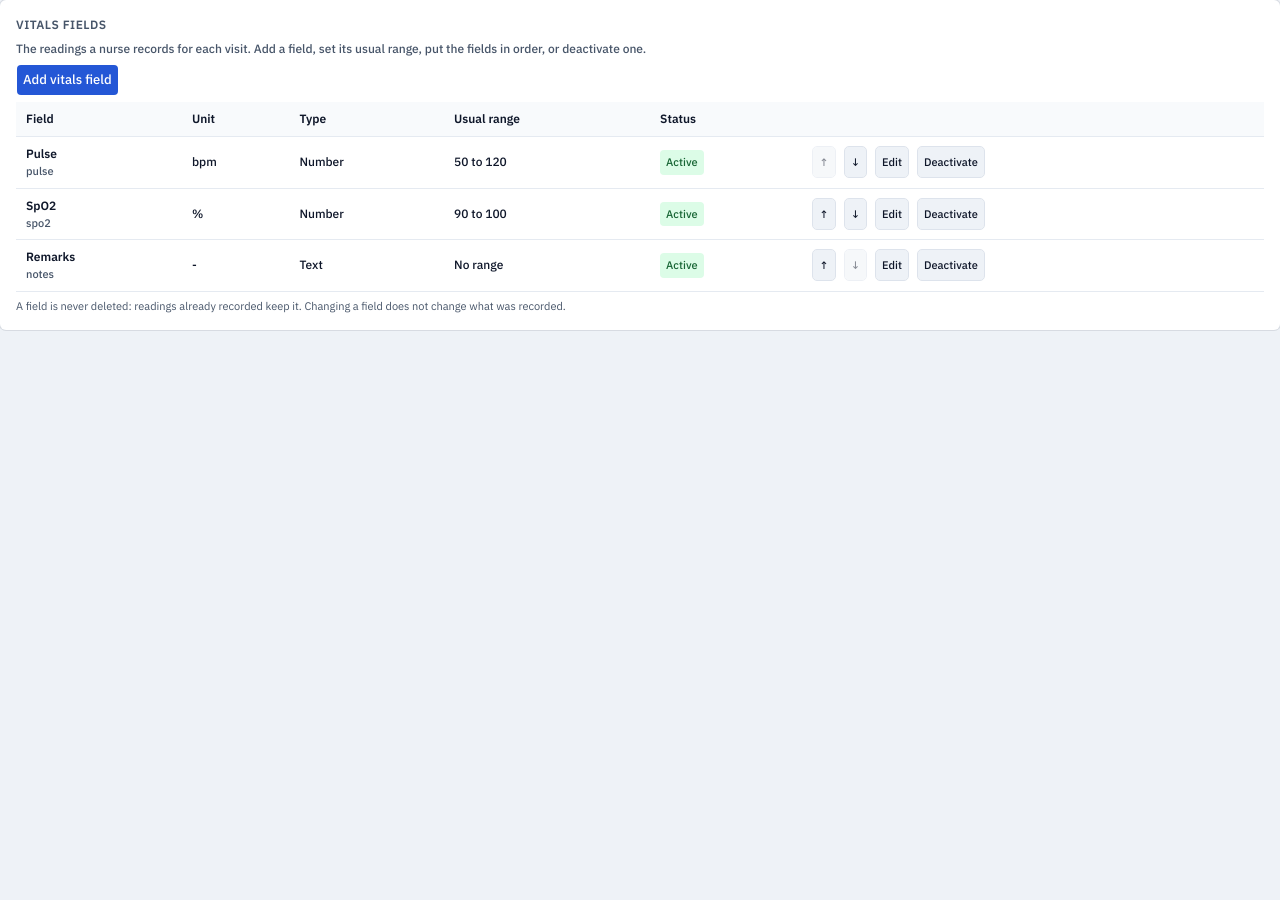
it: VitalsFieldsScreen › Add opens a pop-up; a number field is sent with its range and listed
Step 1. Click the button "Add vitals field" → (67, 80), box [16,64,119,96]
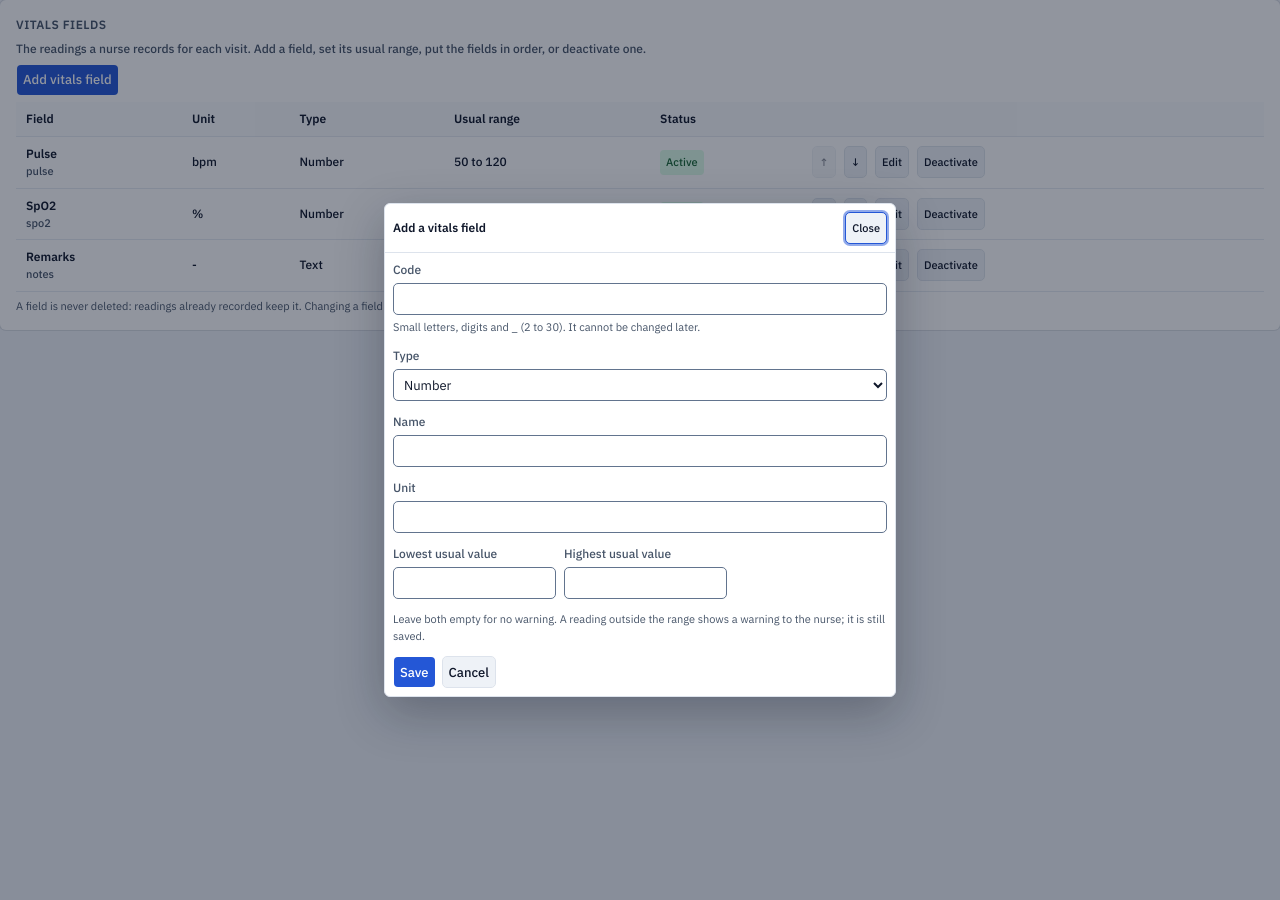
Step 2. Type "glucose" into the field labelled "Code" → (640, 299), box [393,283,887,315]
Step 3. Type "Blood sugar" into the field labelled "Name" → (640, 451), box [393,435,887,467]
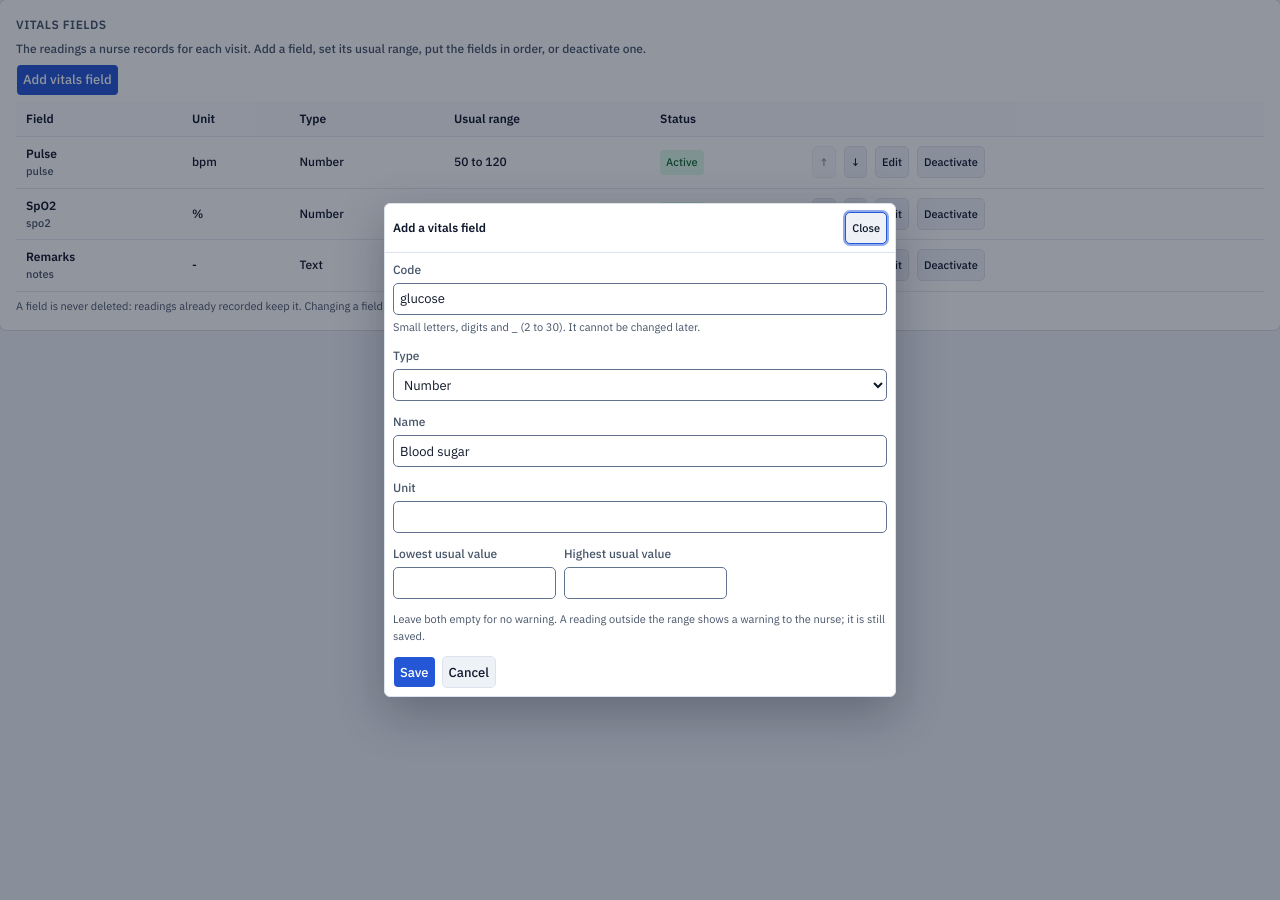
Step 4. Type "mg/dL" into the field labelled "Unit" → (640, 517), box [393,501,887,533]
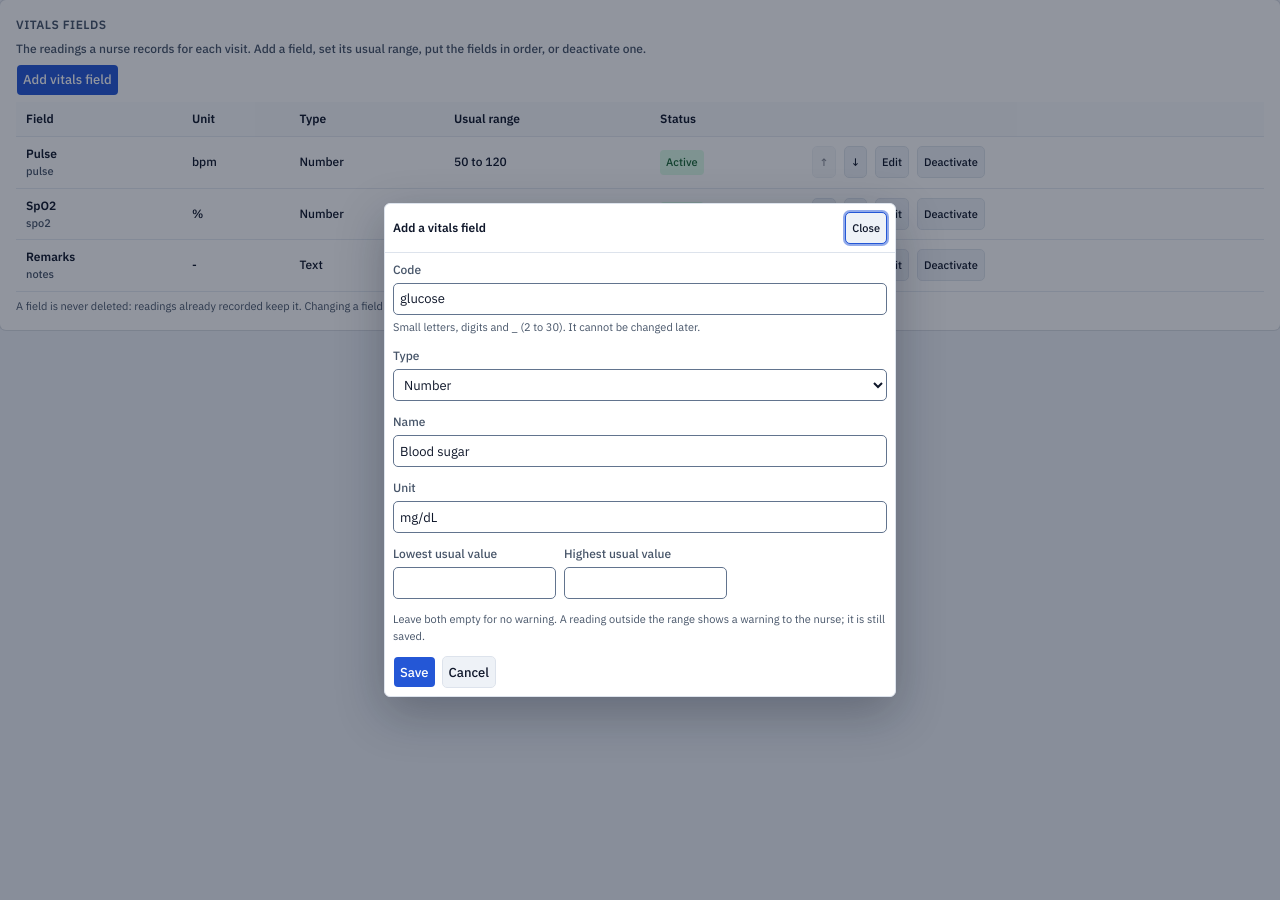
Step 5. Type "70" into the field labelled "Lowest usual value" → (474, 583), box [393,567,556,599]
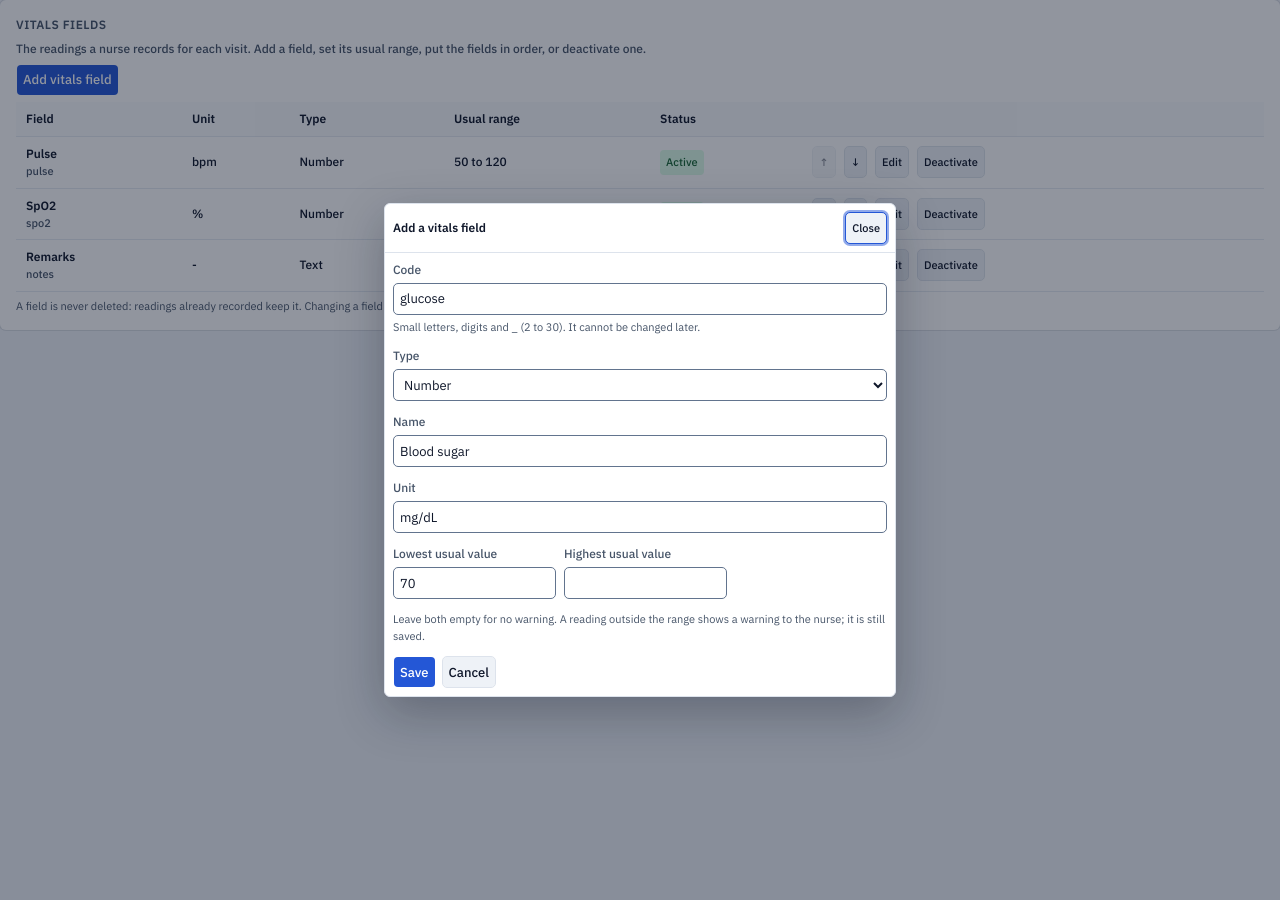
Step 6. Type "180" into the field labelled "Highest usual value" → (646, 583), box [564,567,727,599]
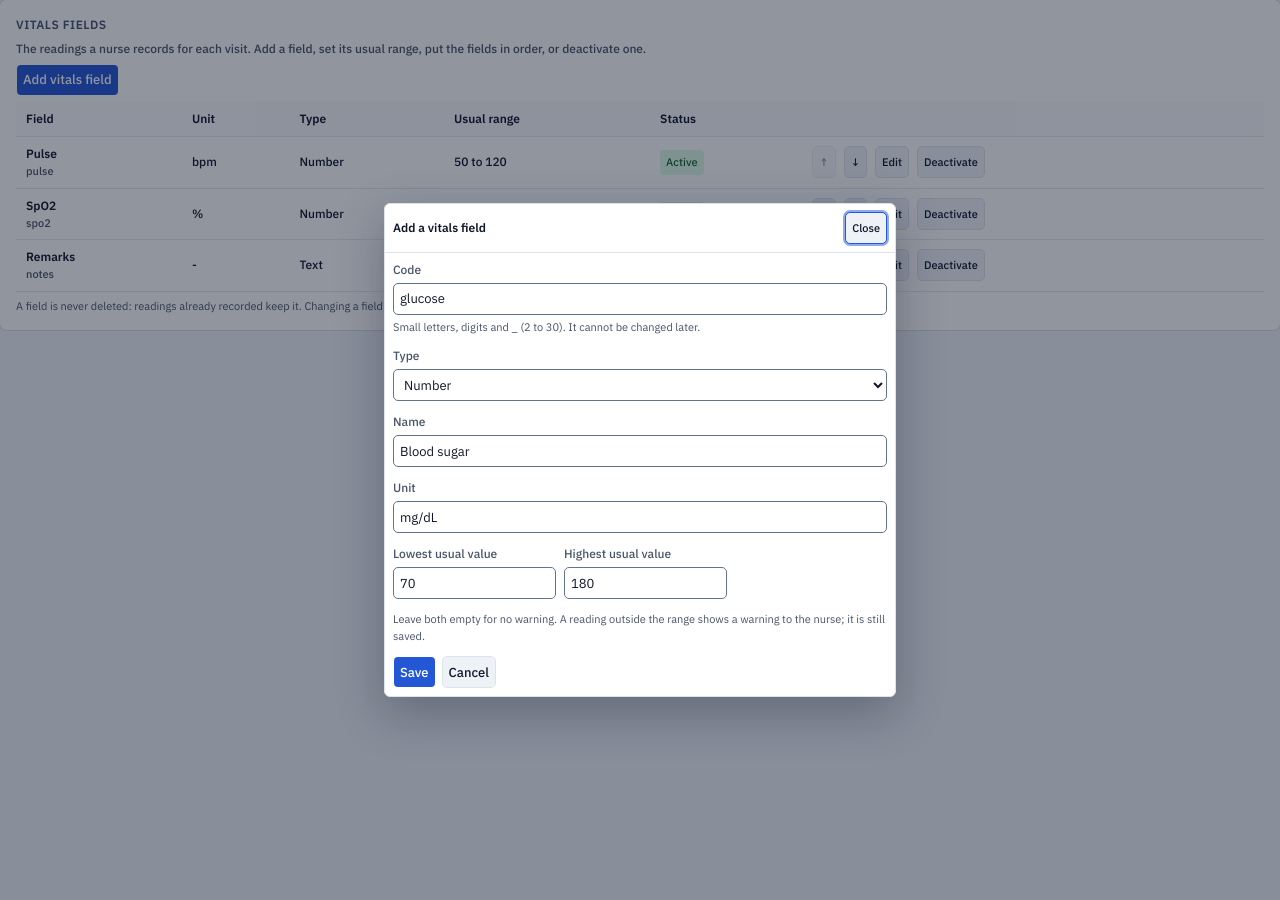
Step 7. Click the button "Save" → (414, 672), box [393,656,436,688]
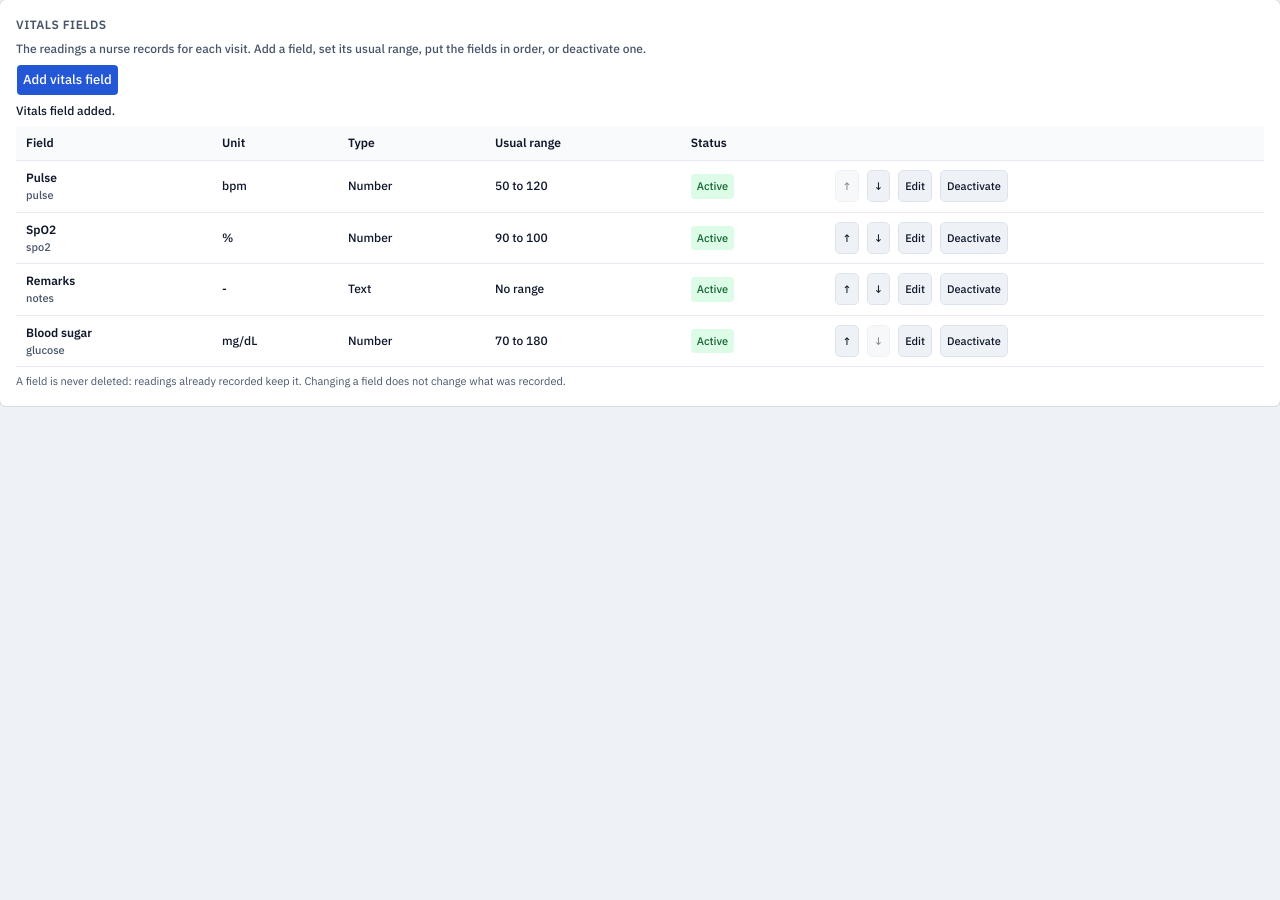
Now the text "Vitals field added." is shown, box [16,103,115,118]
Now the text "Blood sugar" is shown, box [26,324,92,340]
